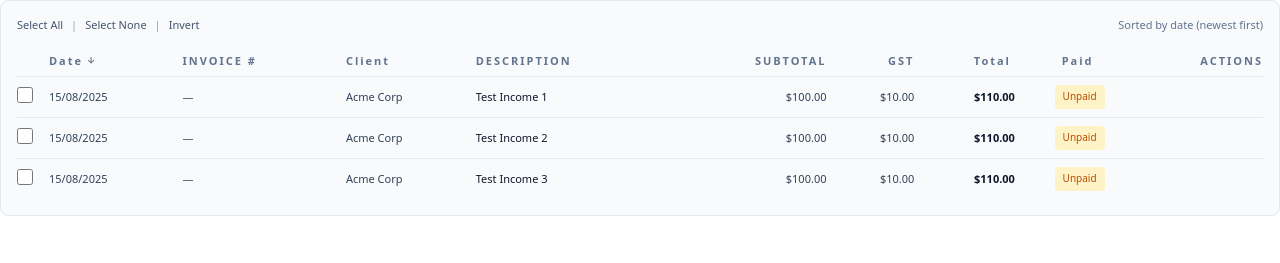
Test: IncomesTable › Bulk Operations › inverts selection when "Invert" is clicked
Click the checkbox named "select income" at {"x": 25, "y": 95}, box [17,87,33,103]
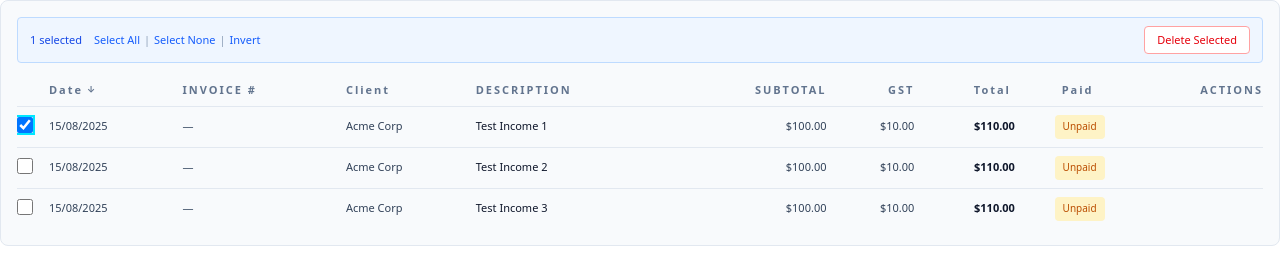
Click the checkbox named "select income" at {"x": 25, "y": 166}, box [17,158,33,174]
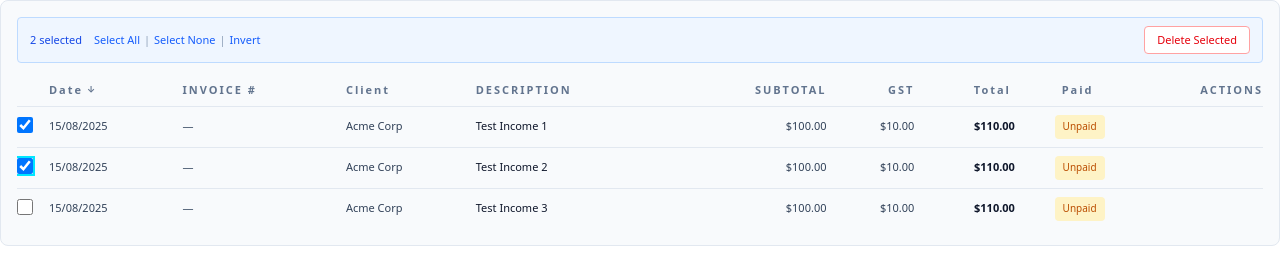
Click the button "Invert" at {"x": 245, "y": 40}, box [230,32,260,48]
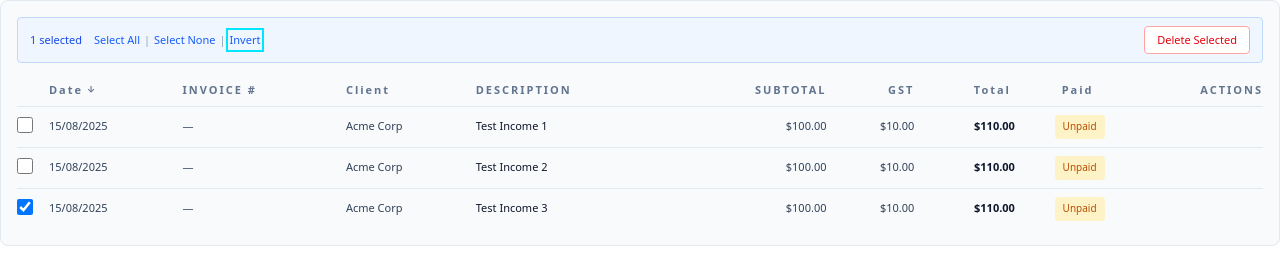
expect the checkbox named "select income" is not checked: met, box [17,117,33,133]
expect the checkbox named "select income" is checked: met, box [17,199,33,215]
